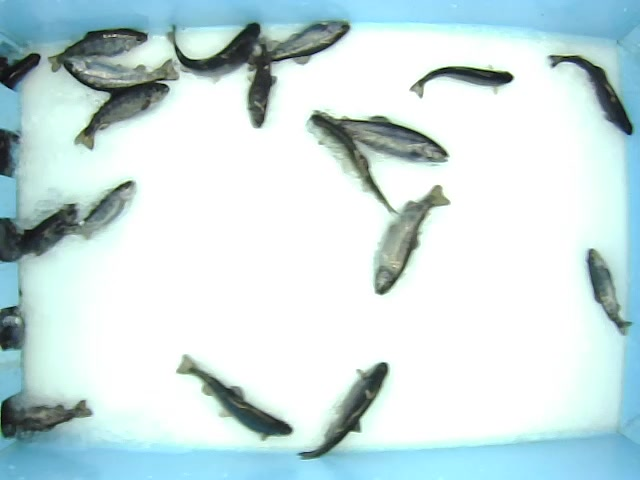fish: (174, 352, 294, 441), (307, 111, 402, 217), (294, 359, 391, 461), (371, 183, 452, 296), (306, 109, 450, 165), (546, 50, 635, 138), (72, 82, 171, 151), (165, 18, 262, 84), (247, 18, 352, 68), (56, 178, 137, 242), (61, 52, 181, 92), (45, 27, 149, 73), (585, 245, 634, 337), (408, 62, 514, 99), (12, 200, 78, 259), (243, 37, 278, 129)
